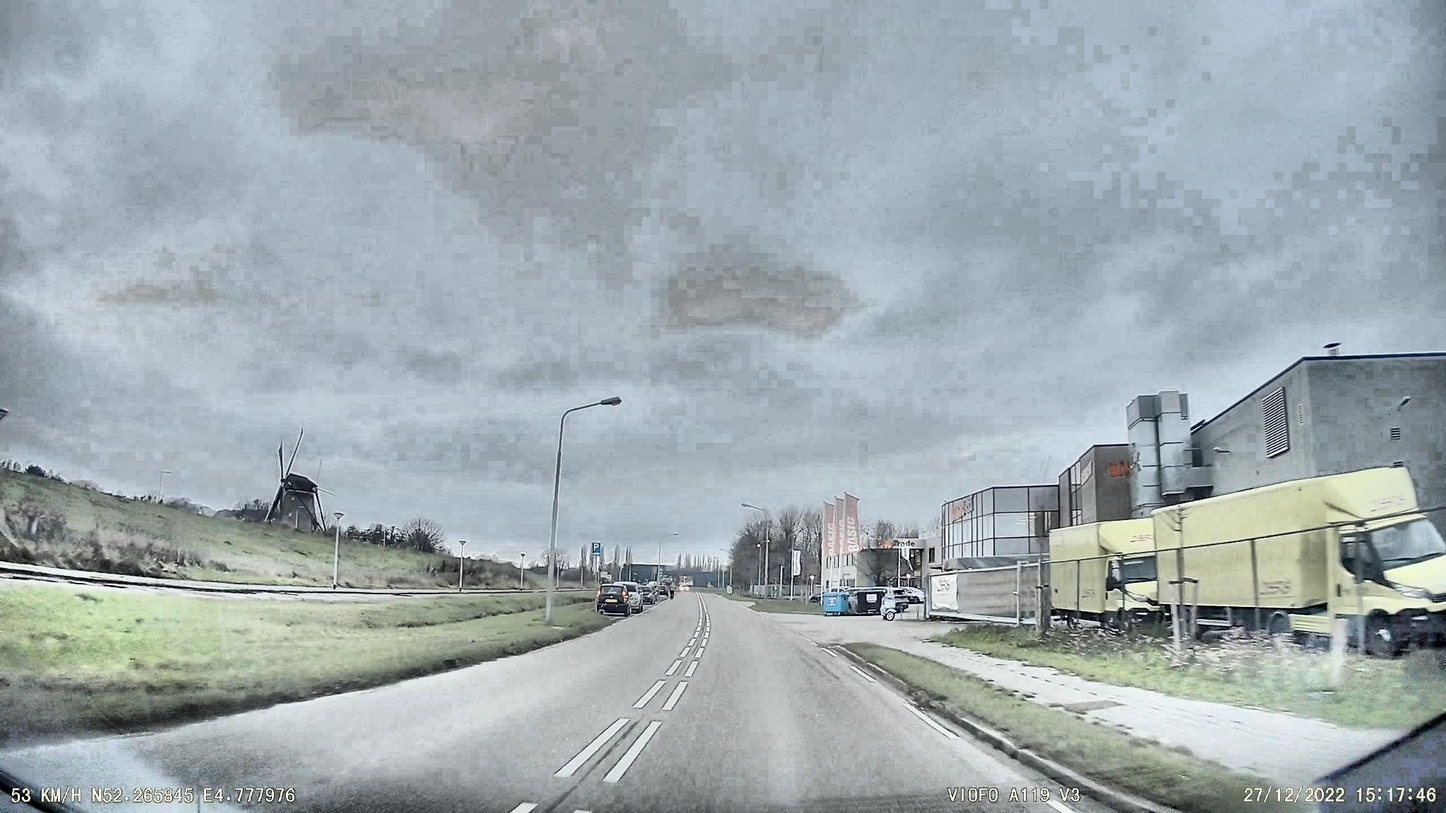Roads: (0, 598, 1179, 813)
